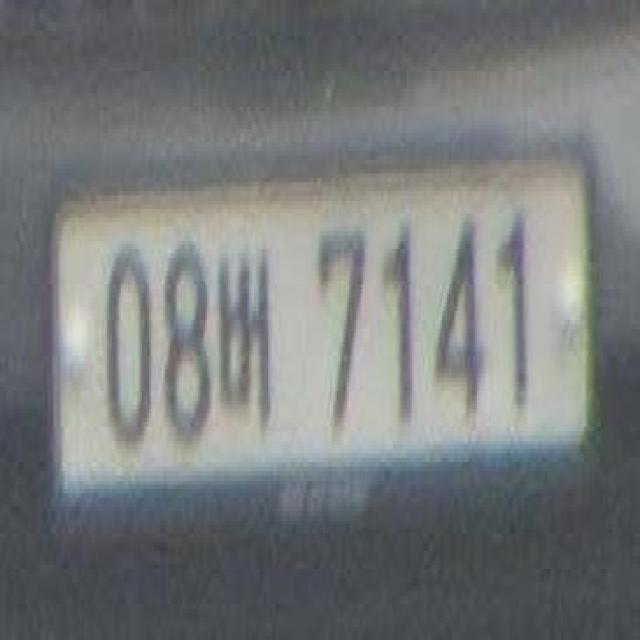illegal_plate: (53, 147, 599, 521)
